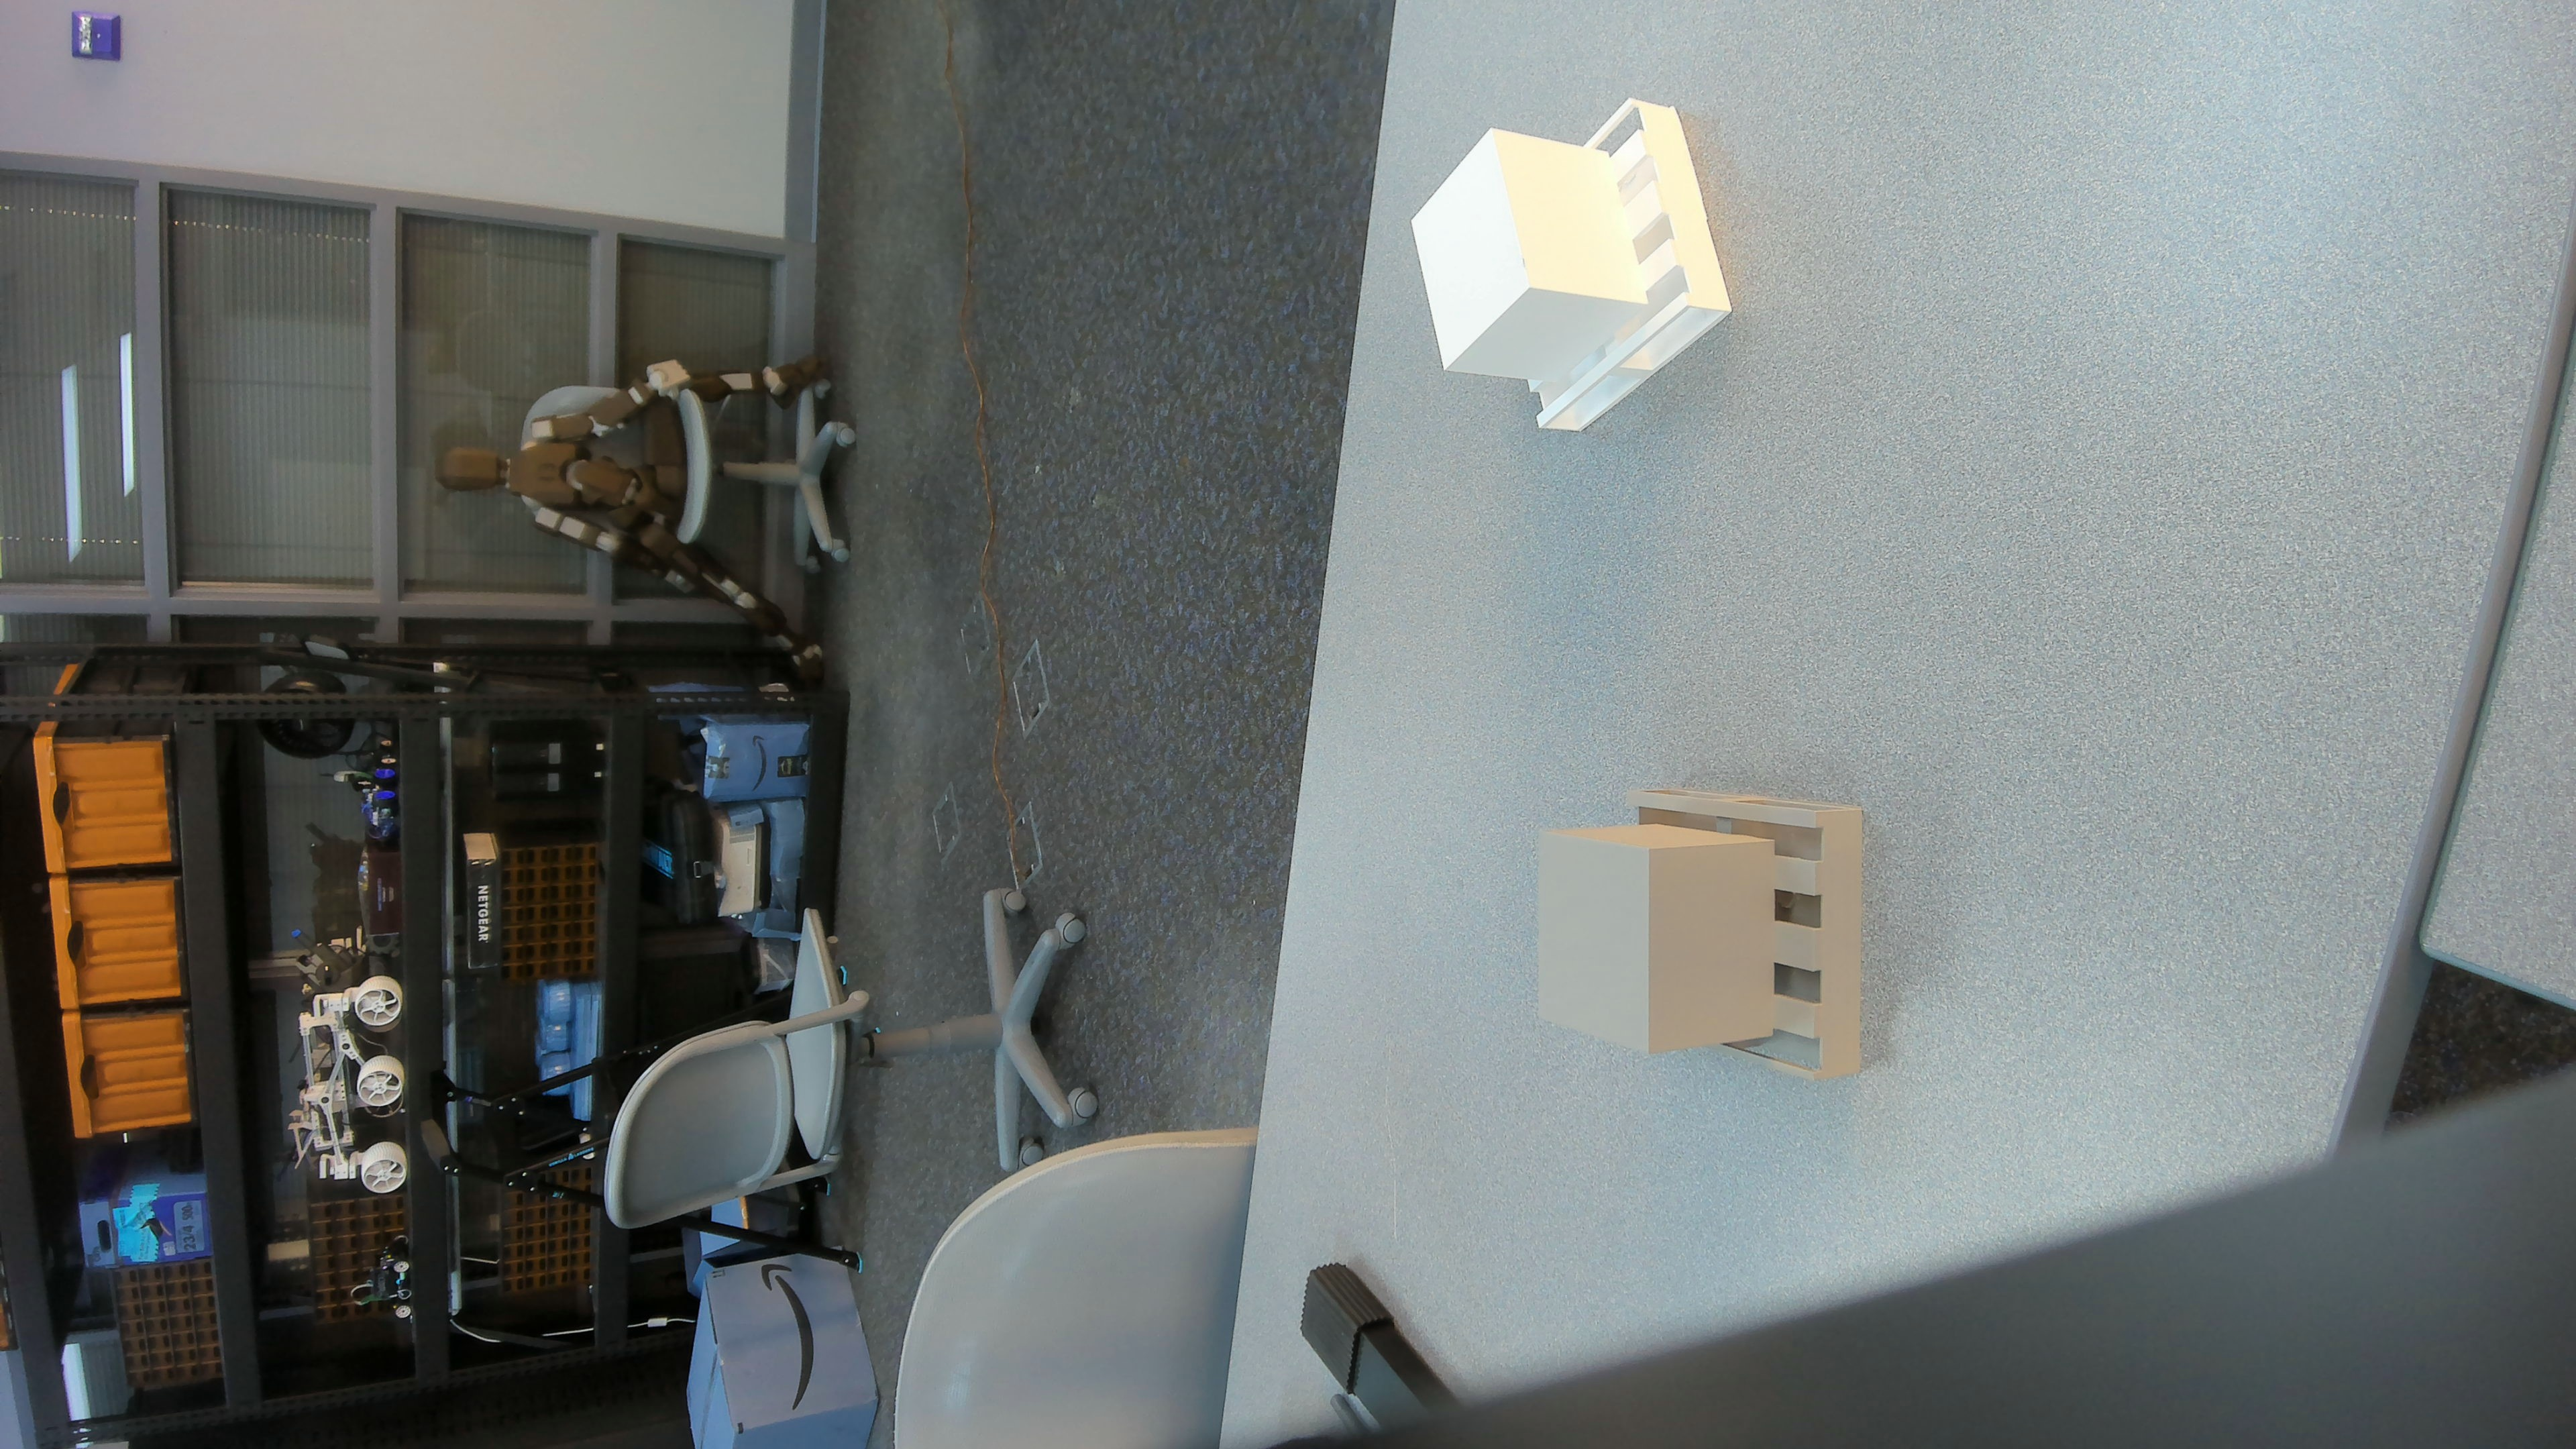grey pallet: (1532, 777, 1890, 1118)
white pallet: (1403, 83, 1748, 455)
